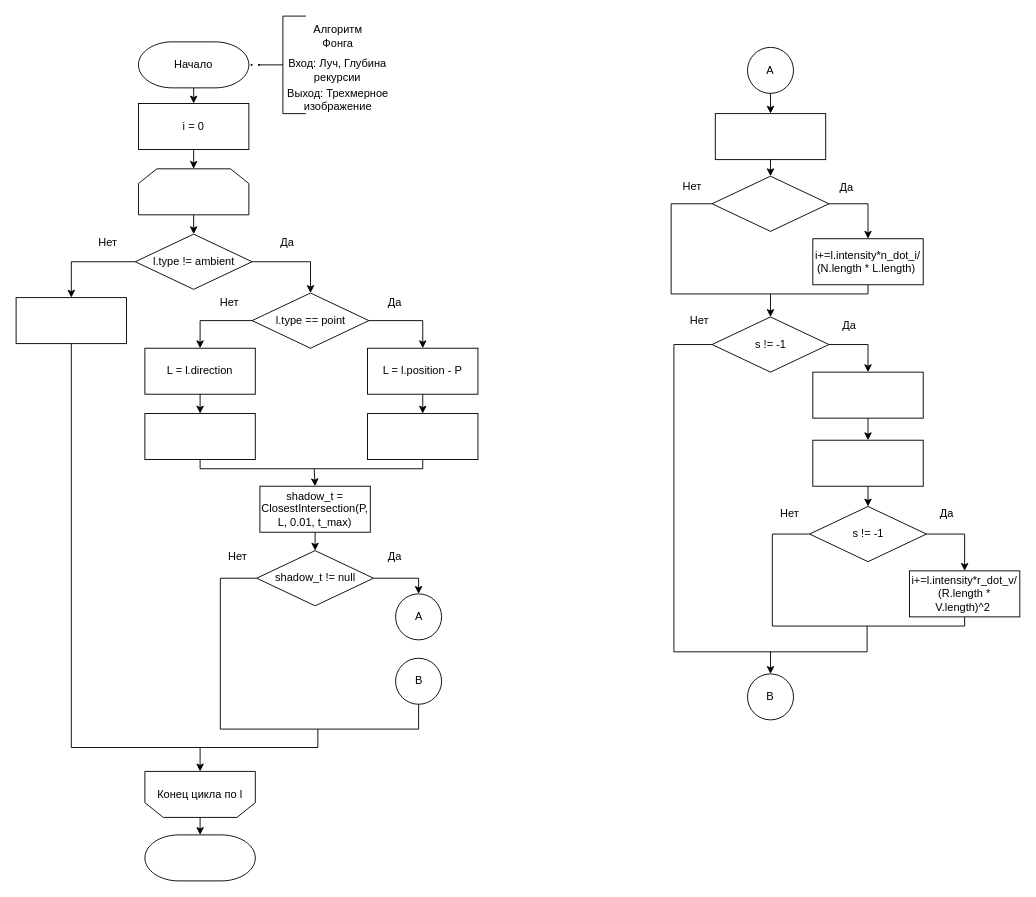
Some shapes in this 1036 by 897 pixel diagram are drawn without their labels. Each missing label, with the centre of its shape:
"i += l.intensity" goes at (x=70, y=320).
"n_dot_i = N * L" goes at (x=770, y=136).
"n_dot_i > 0" goes at (x=770, y=203).
"R = N * 2 * (N * L) - L" goes at (x=867, y=394).
"r_dot_v = R * V" goes at (x=867, y=462).
"t_max = 1" goes at (x=422, y=436).
"t_max = inf" goes at (x=199, y=436).
"Конец" goes at (x=199, y=857).
"Цикл по l в scene.Lights" goes at (x=193, y=191).
